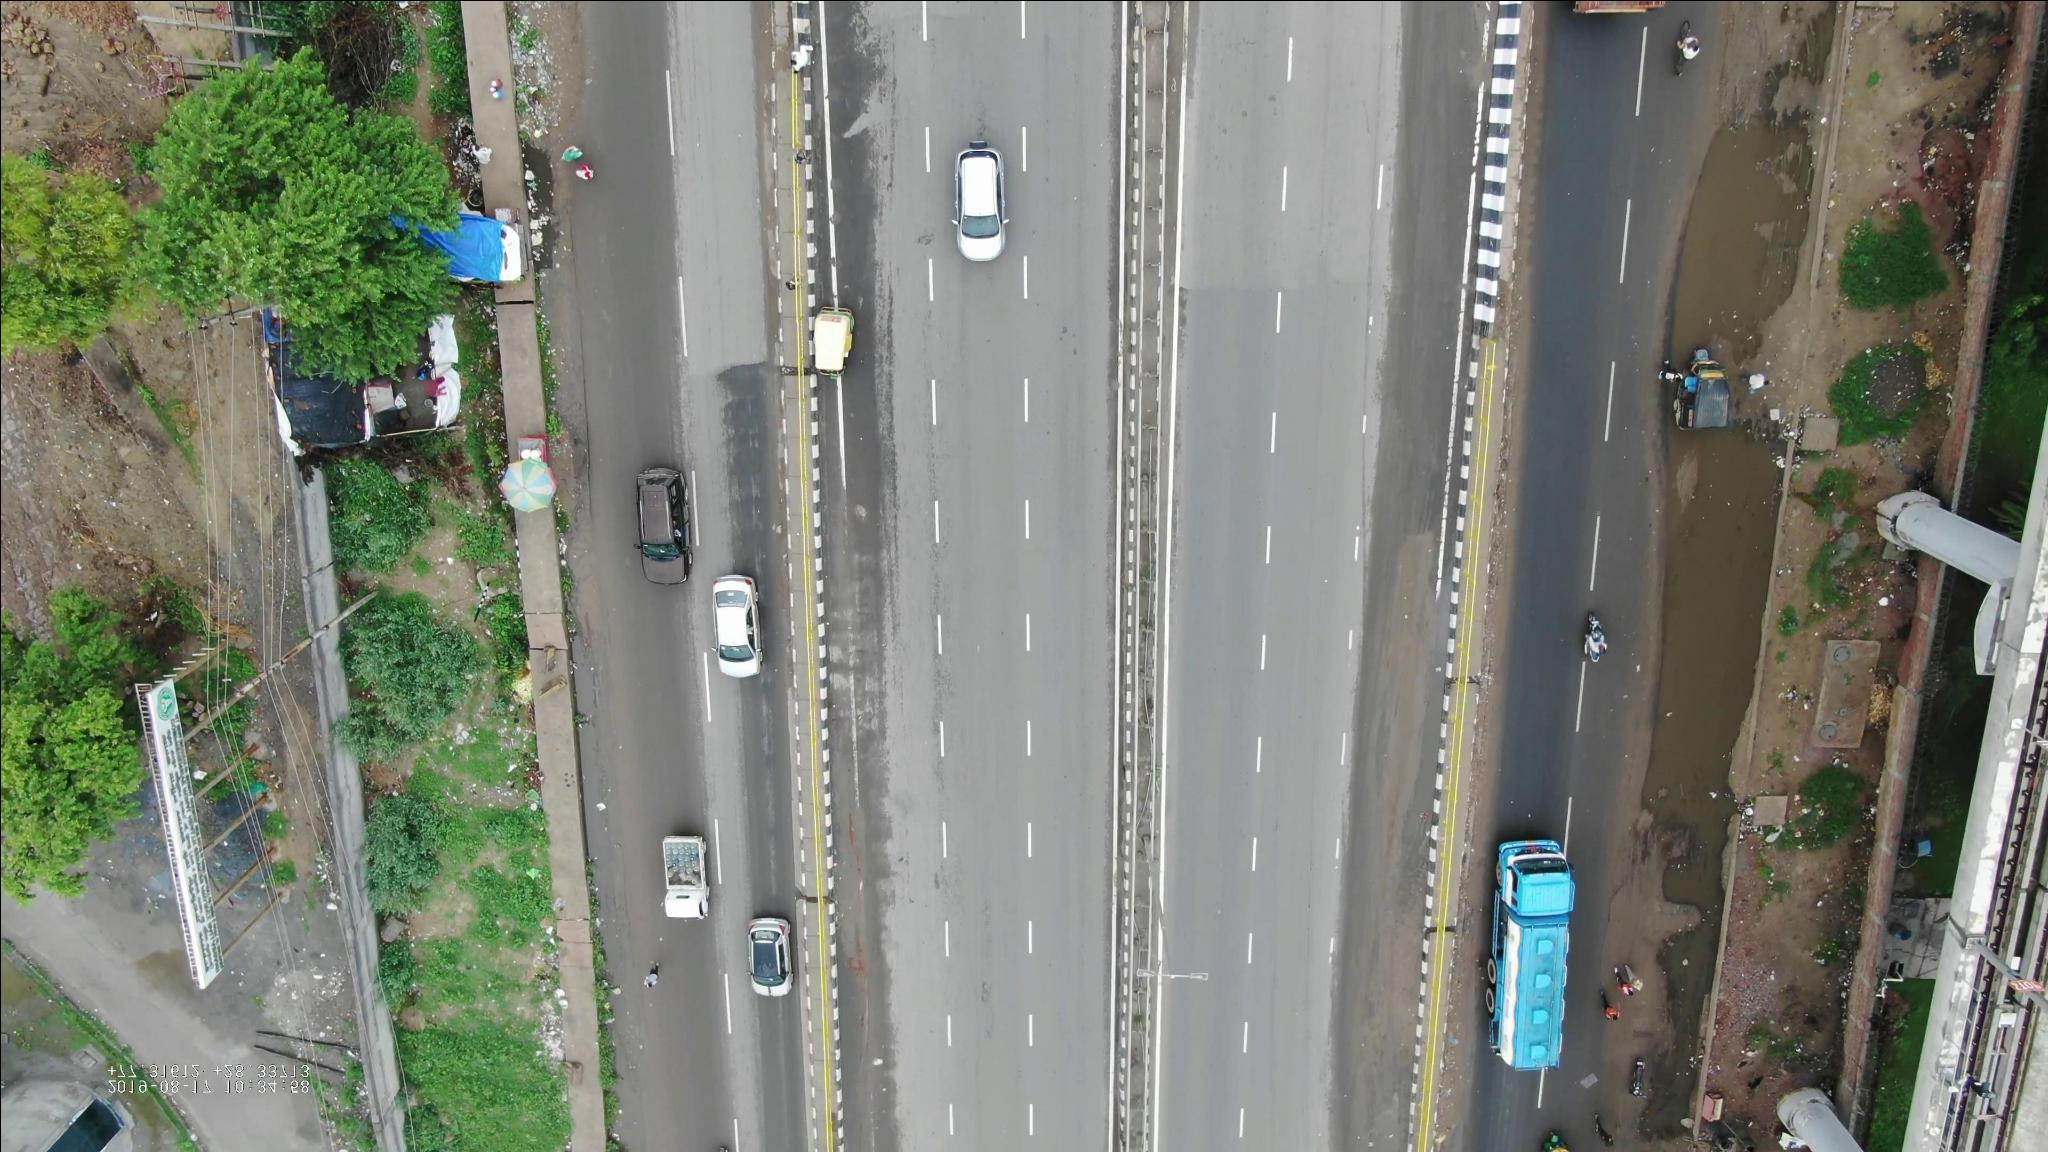Muddy_road: (1352, 775, 1431, 1068), (1369, 516, 1447, 768)
Ravelling: (836, 785, 890, 999)
Waterlogging: (1636, 432, 1796, 819), (1670, 58, 1831, 371), (1620, 834, 1733, 1137), (563, 623, 637, 862)
